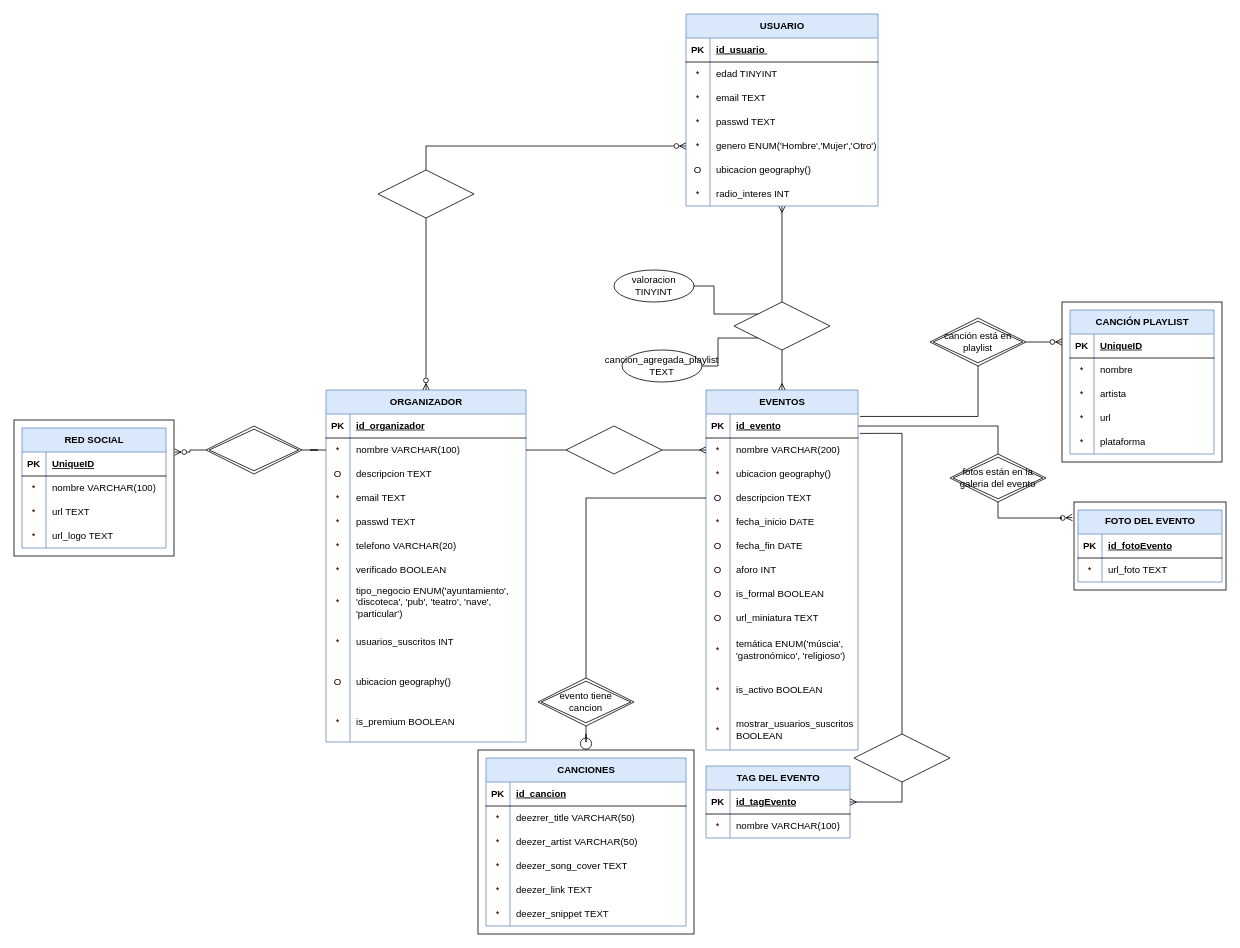
This 1240x948 diagram has some shape labels left out. Each missing label, with the centre of its shape:
"evento tiene tags" belongs at pixel 901 757.
"org. crea eventos" belongs at pixel 613 449.
"org. tiene sus RRSS" belongs at pixel 253 449.
"usuario se suscribe" belongs at pixel 425 193.
"usuario va a evento" belongs at pixel 781 325.
